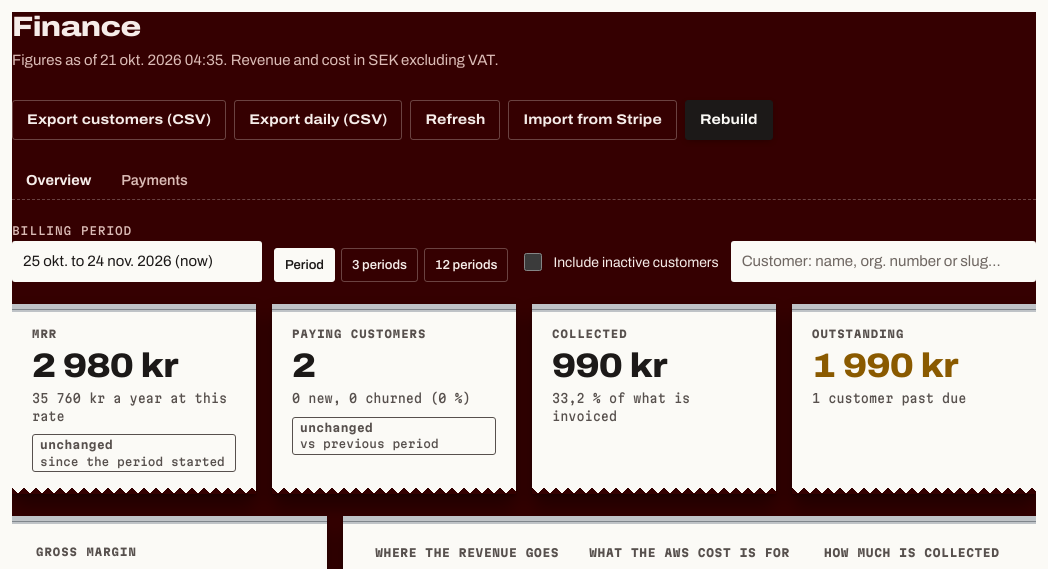
it: FinancePage › offers the customer's locations and scopes the figures to one
The image size is (1048, 569).
Expected: the field labelled "Location" is not shown
Type "roma" into the field named "Filter by customer".
click(883, 262); type("roma")  # box [731,241,1036,282]
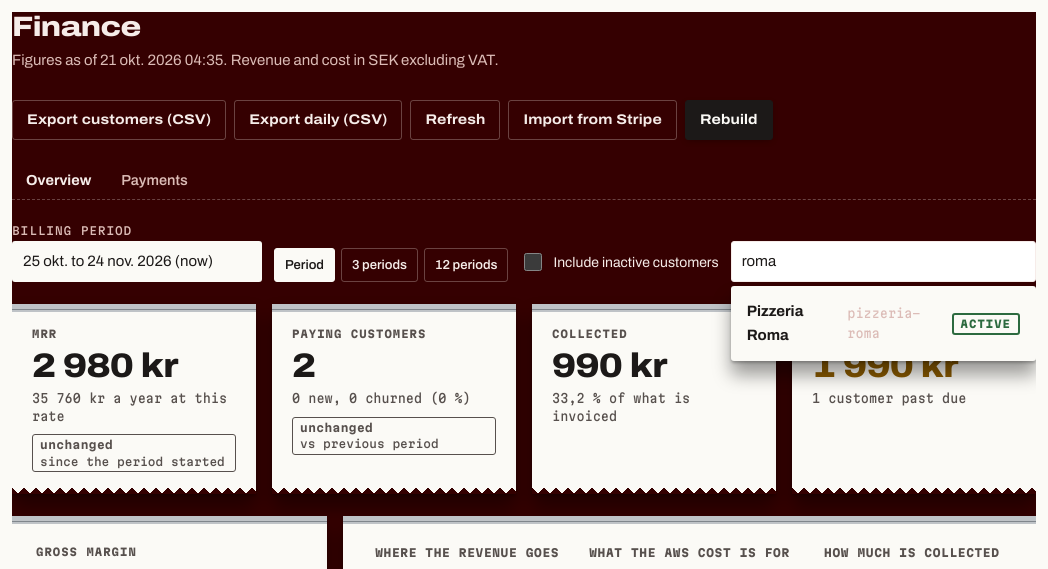
Click the option "Pizzeria Roma pizzeria-roma Active".
click(883, 324)  # box [737,292,1030,355]
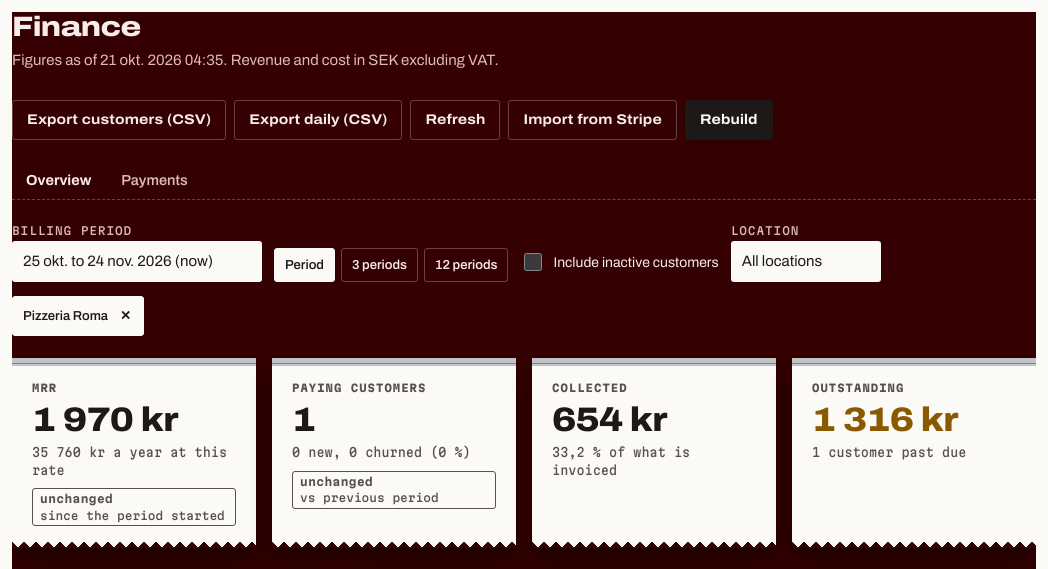
Select "Vasastan" in the dropdown labelled "Location" at (806, 262), box [731,241,881,282]
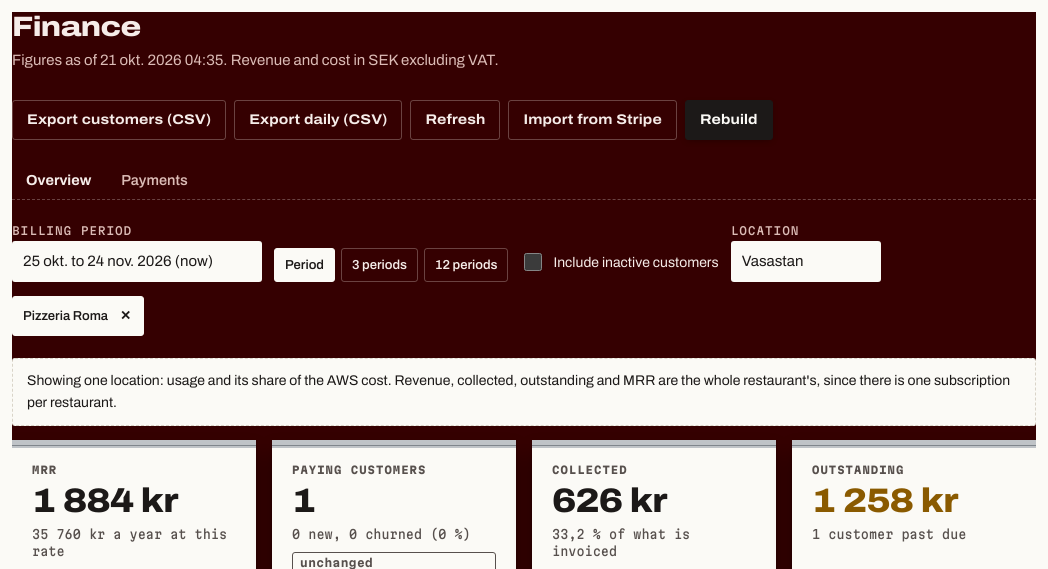
Expected: the text "Showing one location" is shown, [27,374,1010,410]
Click the button named "Show all customers".
click(125, 316)  # box [118,310,133,323]
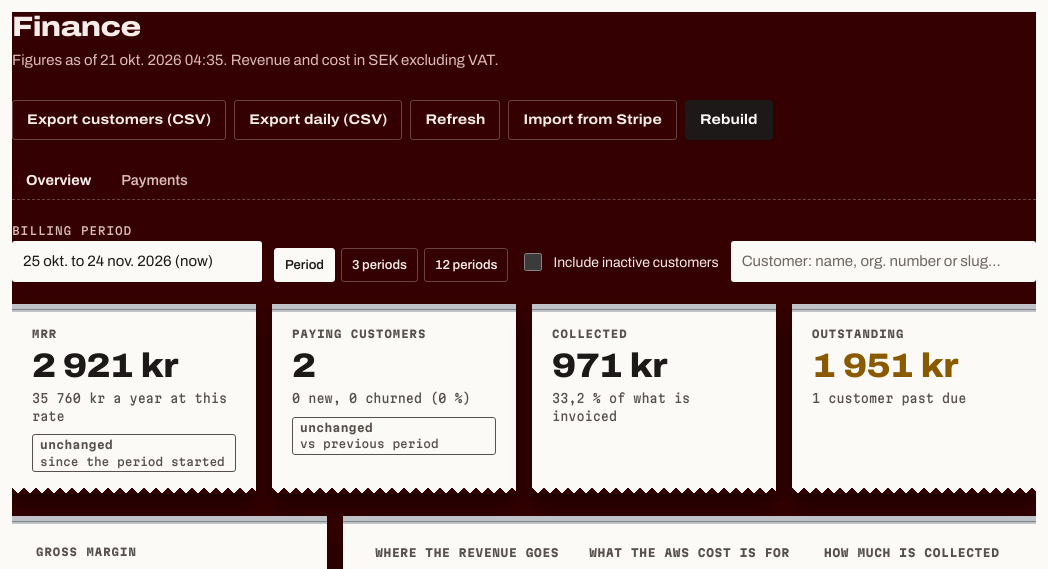
Expected: the text labelled "Location" is gone
